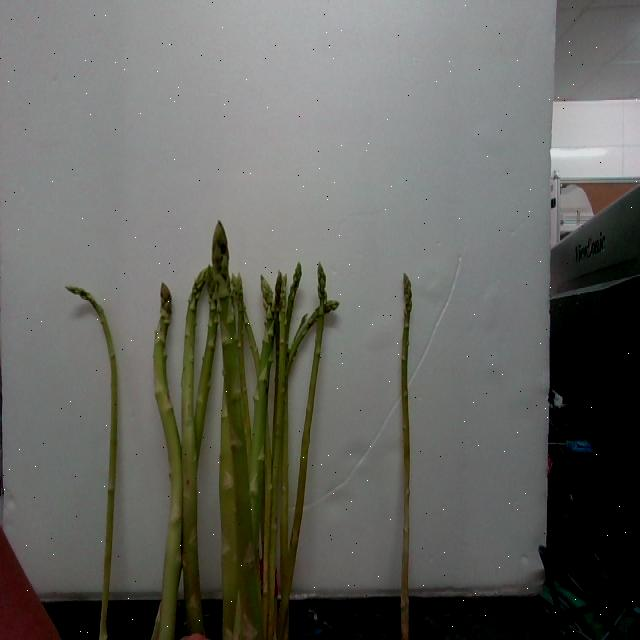aspargus: (211, 223, 267, 640), (66, 288, 119, 640), (399, 274, 416, 640)
